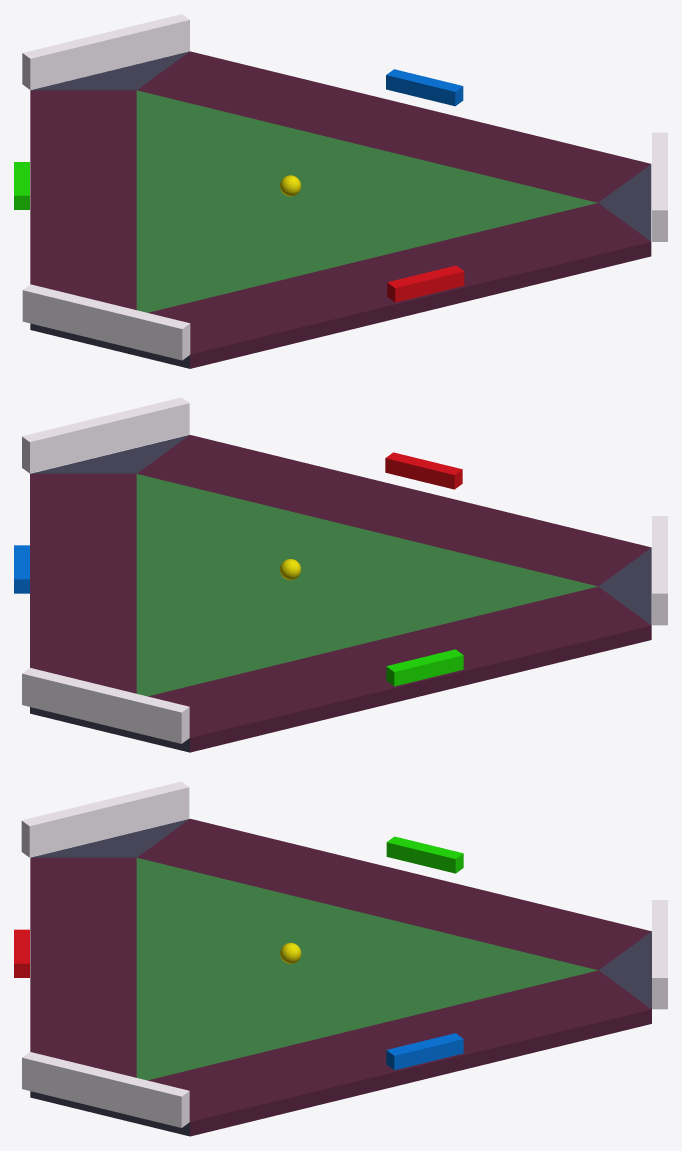
File: pong3p.glb
3 renders of one model, top to bottom at view 1: azimuth 30°, elevation 25°; view 2: azimuth 150°, elevation 25°; view 3: azimuth 270°, elevation 25°, orthographic.
Visible parts, largest first — view 1: court, wall2, wall3, wall1, paddle2, paddle1, paddle3; view 2: court, wall3, wall1, wall2, paddle1, paddle3, paddle2; view 3: court, wall2, wall1, wall3, paddle2, paddle3, paddle1.
Boxes of the visible parts, x1,y1,x2,y2 form: court: [30, 51, 651, 368]; wall2: [22, 284, 190, 360]; wall3: [22, 14, 189, 89]; wall1: [652, 132, 667, 241]; paddle2: [386, 69, 463, 106]; paddle1: [387, 265, 464, 302]; paddle3: [14, 162, 29, 209]; court: [30, 435, 651, 752]; wall3: [22, 668, 189, 743]; wall1: [22, 397, 189, 473]; wall2: [652, 516, 667, 625]; paddle1: [385, 452, 462, 489]; paddle3: [386, 649, 463, 686]; paddle2: [14, 545, 29, 593]; court: [30, 818, 651, 1136]; wall2: [21, 781, 189, 857]; wall1: [22, 1052, 189, 1127]; wall3: [652, 900, 667, 1009]; paddle2: [386, 1033, 463, 1070]; paddle3: [386, 836, 463, 873]; paddle1: [14, 929, 29, 977].
Size of the model in its own units: 13.99 by 0.95 by 12.27.
